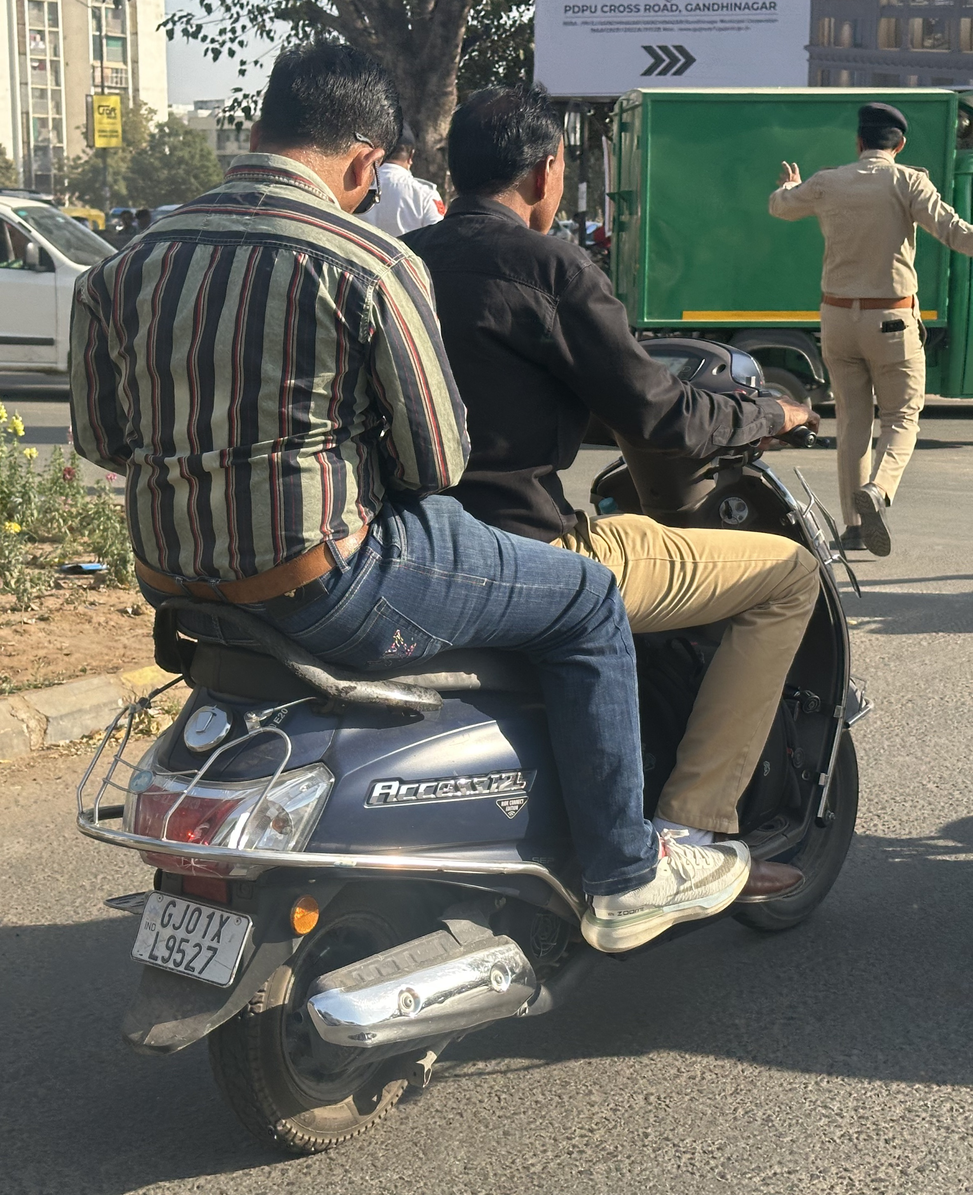BikeWithRider: (51, 26, 889, 1165)
NoHelmet: (232, 31, 414, 223), (431, 78, 581, 240)
